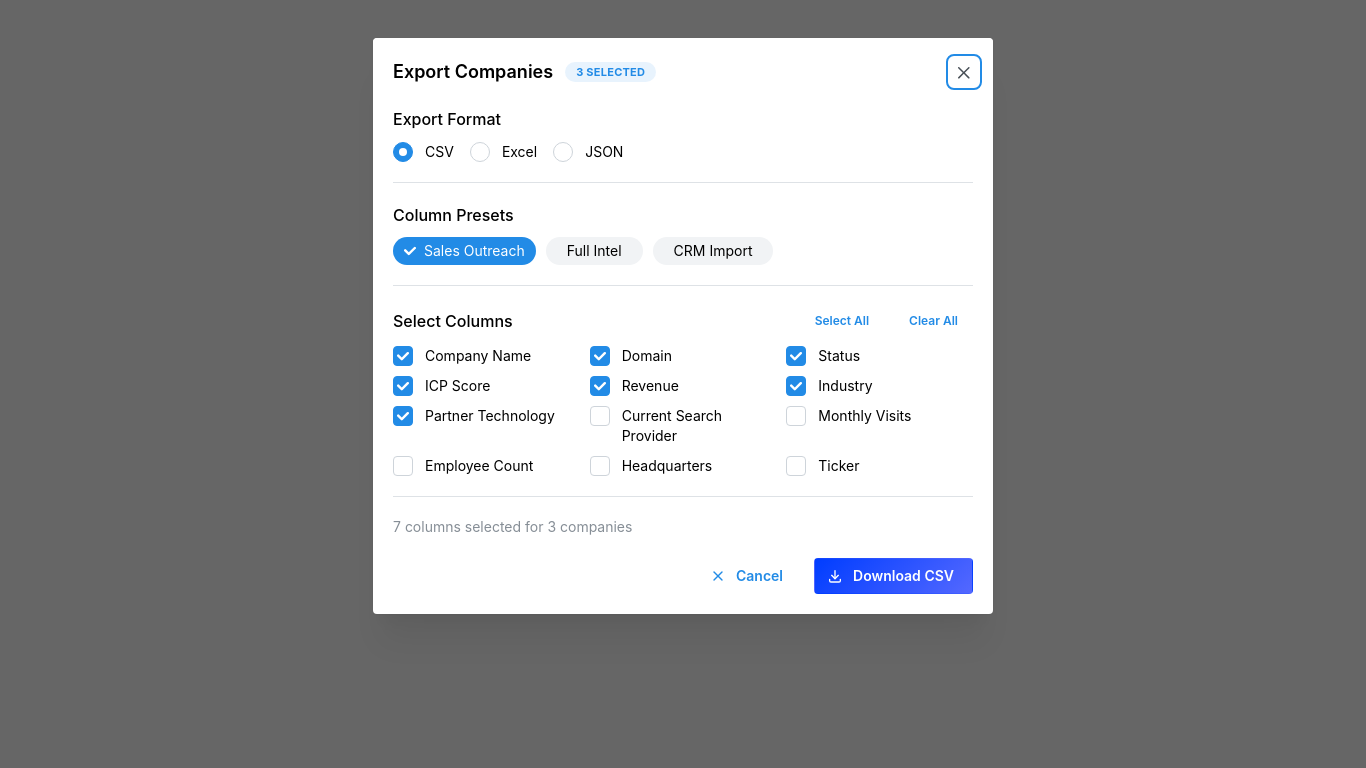
Test case: ExportModal column selection › clear all button deselects all columns
What coordinates should you click on to do the following:
click the button "Clear All"
I would click on:
 (934, 322)
Its box is x1=894 y1=307 x2=973 y2=337.
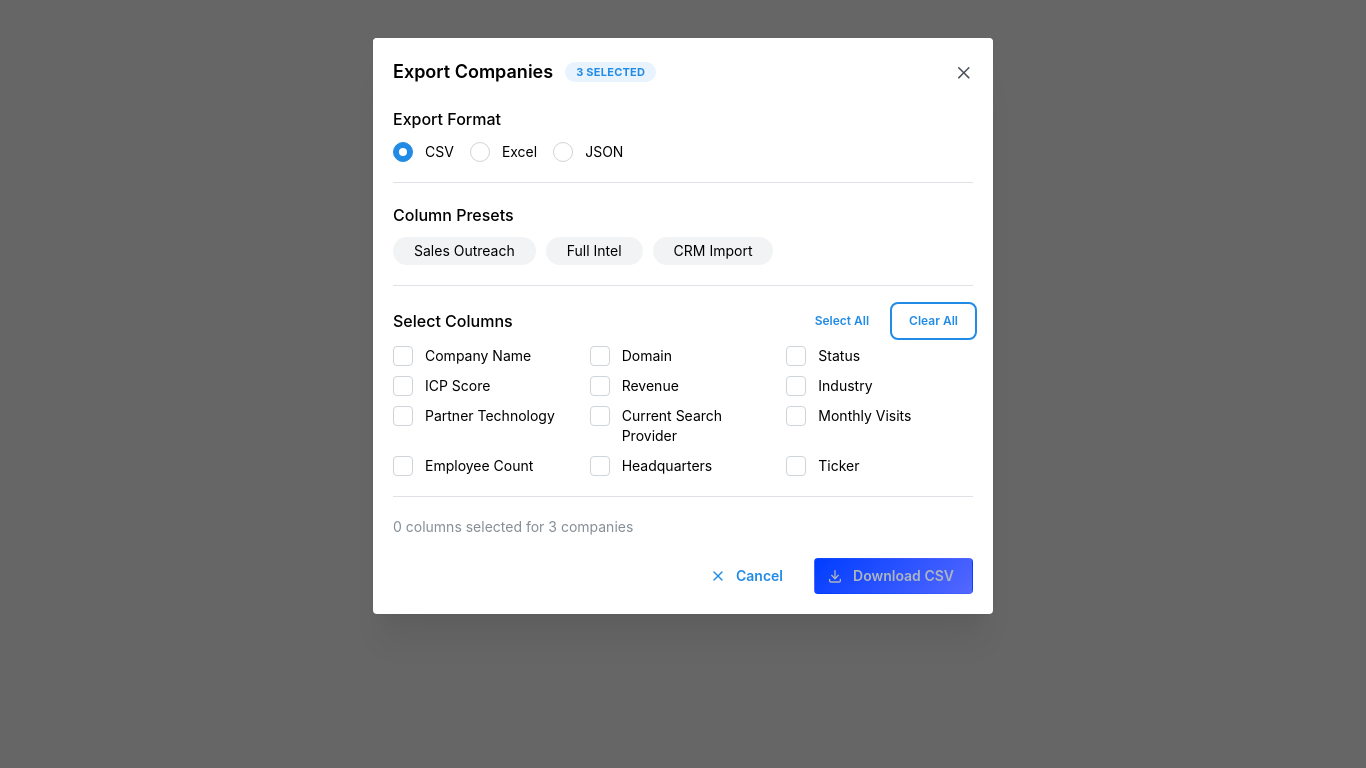
Now the checkbox labelled "Company Name" is not checked, box x1=393 y1=347 x2=413 y2=367
Now the checkbox labelled "Domain" is not checked, box x1=590 y1=347 x2=610 y2=367
